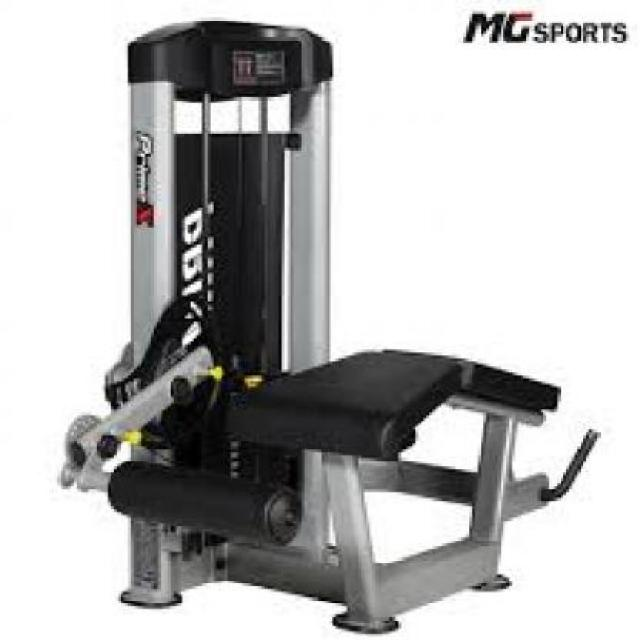reg curl machine: (37, 8, 635, 637)
